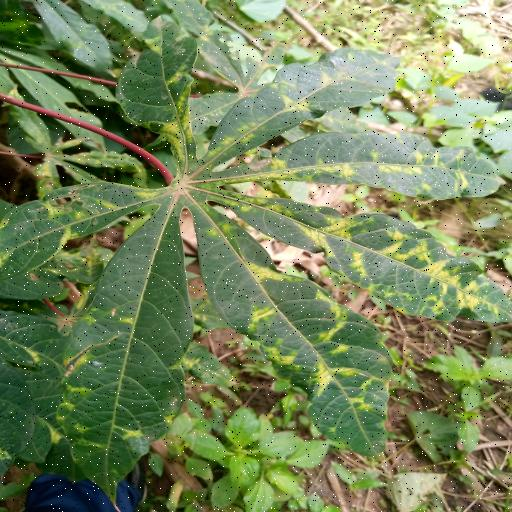Cassava_Mosaic: (0, 25, 512, 491)
